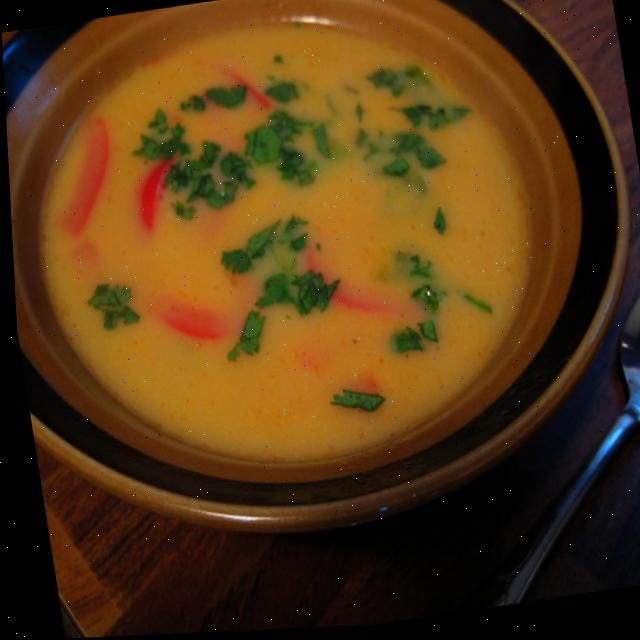汤锅炖物: (0, 0, 615, 521)
